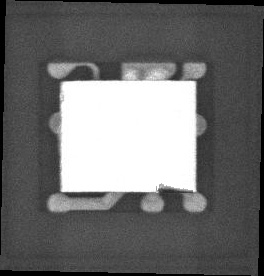DIE_BROKEN: (155, 182, 195, 194)
